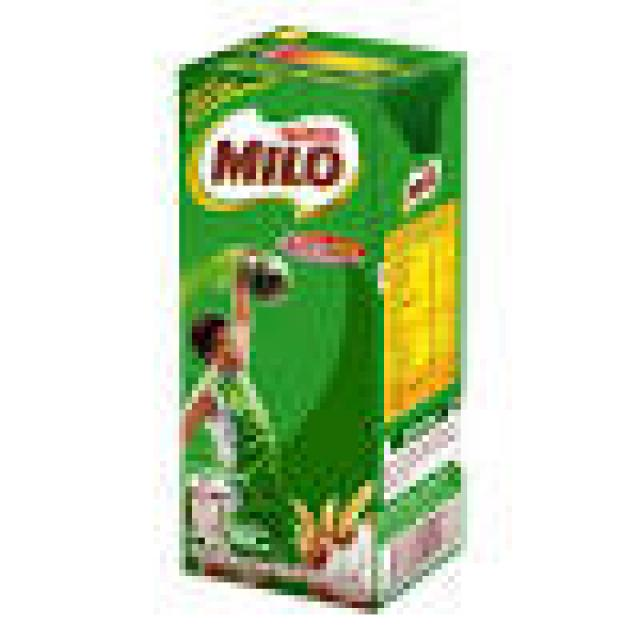non_white_jug: (143, 10, 490, 614)
